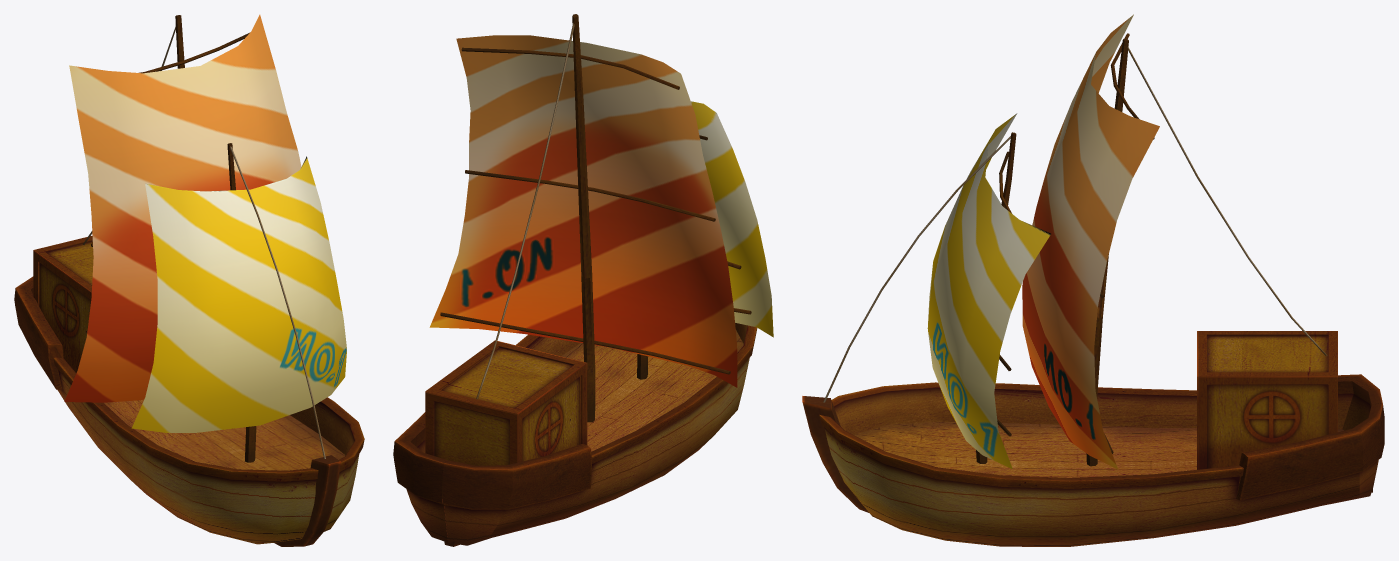
File: DW_Ship.FBX
3 views of the same model, side by side, from view 1: azimuth 30°, elevation 25°; view 2: azimuth 150°, elevation 25°; view 3: azimuth 270°, elevation 25° (orthographic). The views are drawn at different scales.
Parts seen in each view (by area): view 1: DW_Ship; view 2: DW_Ship; view 3: DW_Ship.
Part boxes in pixels (box(x1,y1,x2,y2)): DW_Ship: box(14, 14, 364, 546); DW_Ship: box(393, 14, 773, 546); DW_Ship: box(802, 14, 1384, 546).
Bounding box in the file's own units: 64.29 × 102 × 110.
1 material, 1 textured.
